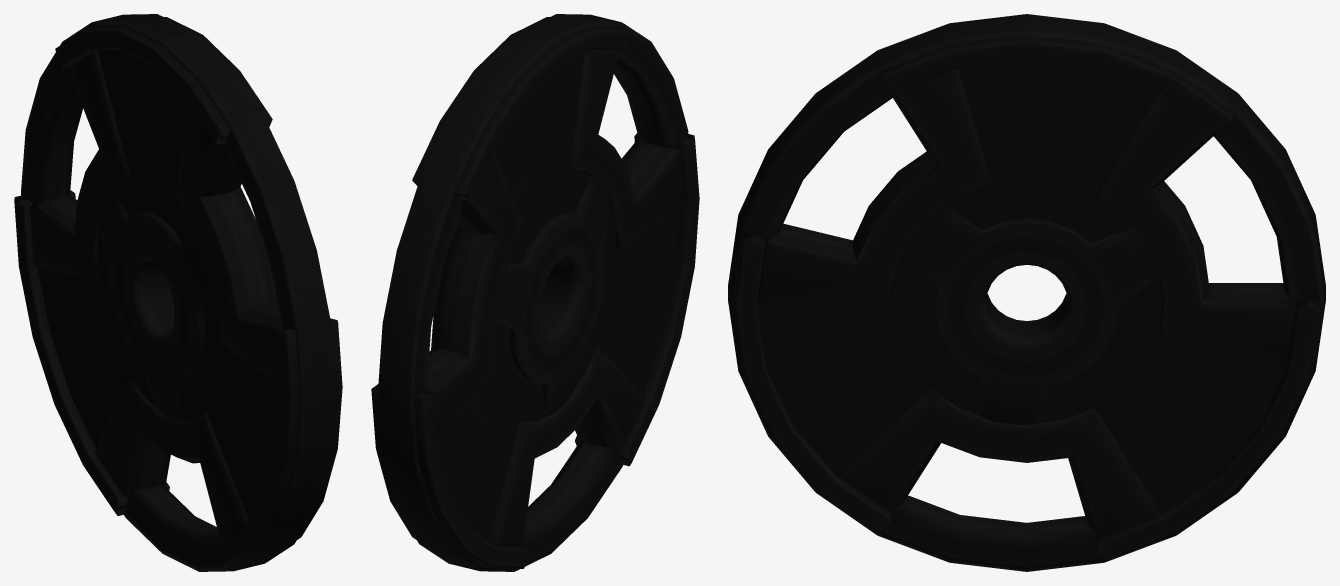
File: MSH_Plate_01.FBX
The picture shows the model from 3 angles, left to right: view 1: azimuth 30°, elevation 25°; view 2: azimuth 150°, elevation 25°; view 3: azimuth 270°, elevation 25°; orthographic projection. The views are drawn at different scales.
Visible parts, largest first — view 1: MSH_Plate_01; view 2: MSH_Plate_01; view 3: MSH_Plate_01.
Boxes of the visible parts, <box> form: MSH_Plate_01: <box>14,14,342,571</box>; MSH_Plate_01: <box>371,14,699,571</box>; MSH_Plate_01: <box>728,14,1325,571</box>.
Size of what is drawn, in the model's own units: 4.2 by 38.8 by 38.8.
